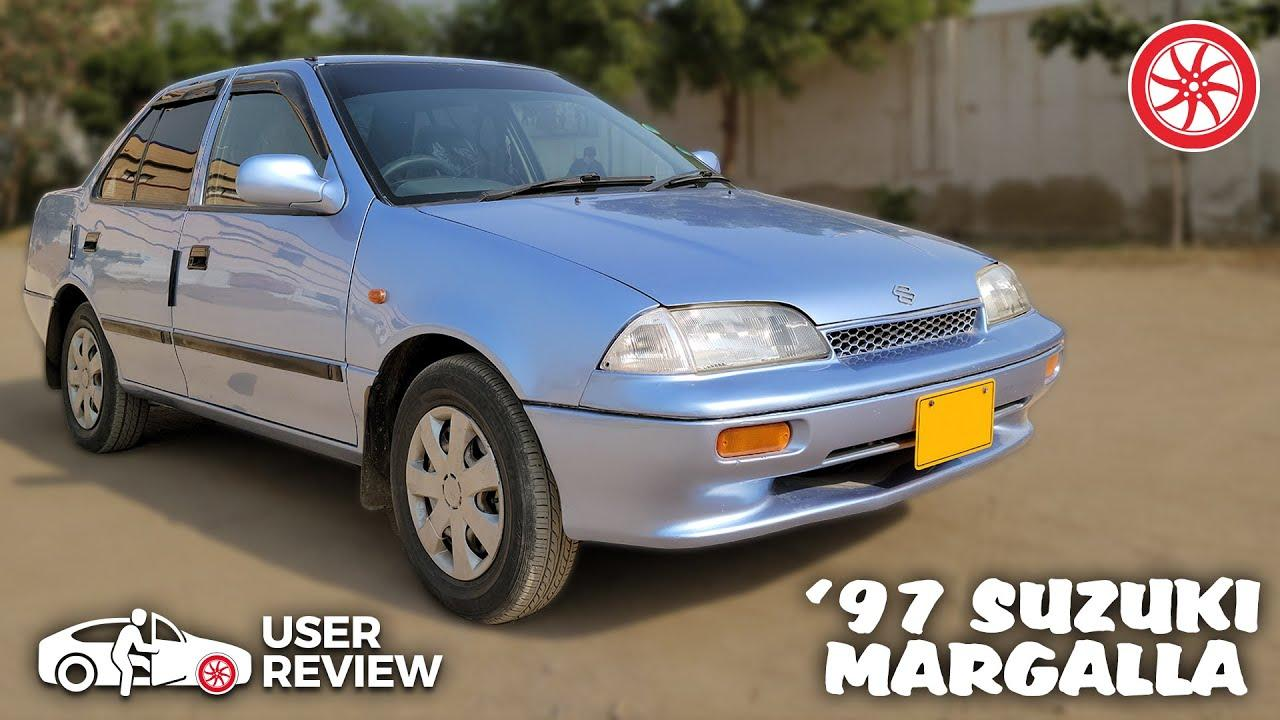windshield: (313, 66, 730, 238)
